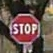stop: (10, 13, 41, 43)
